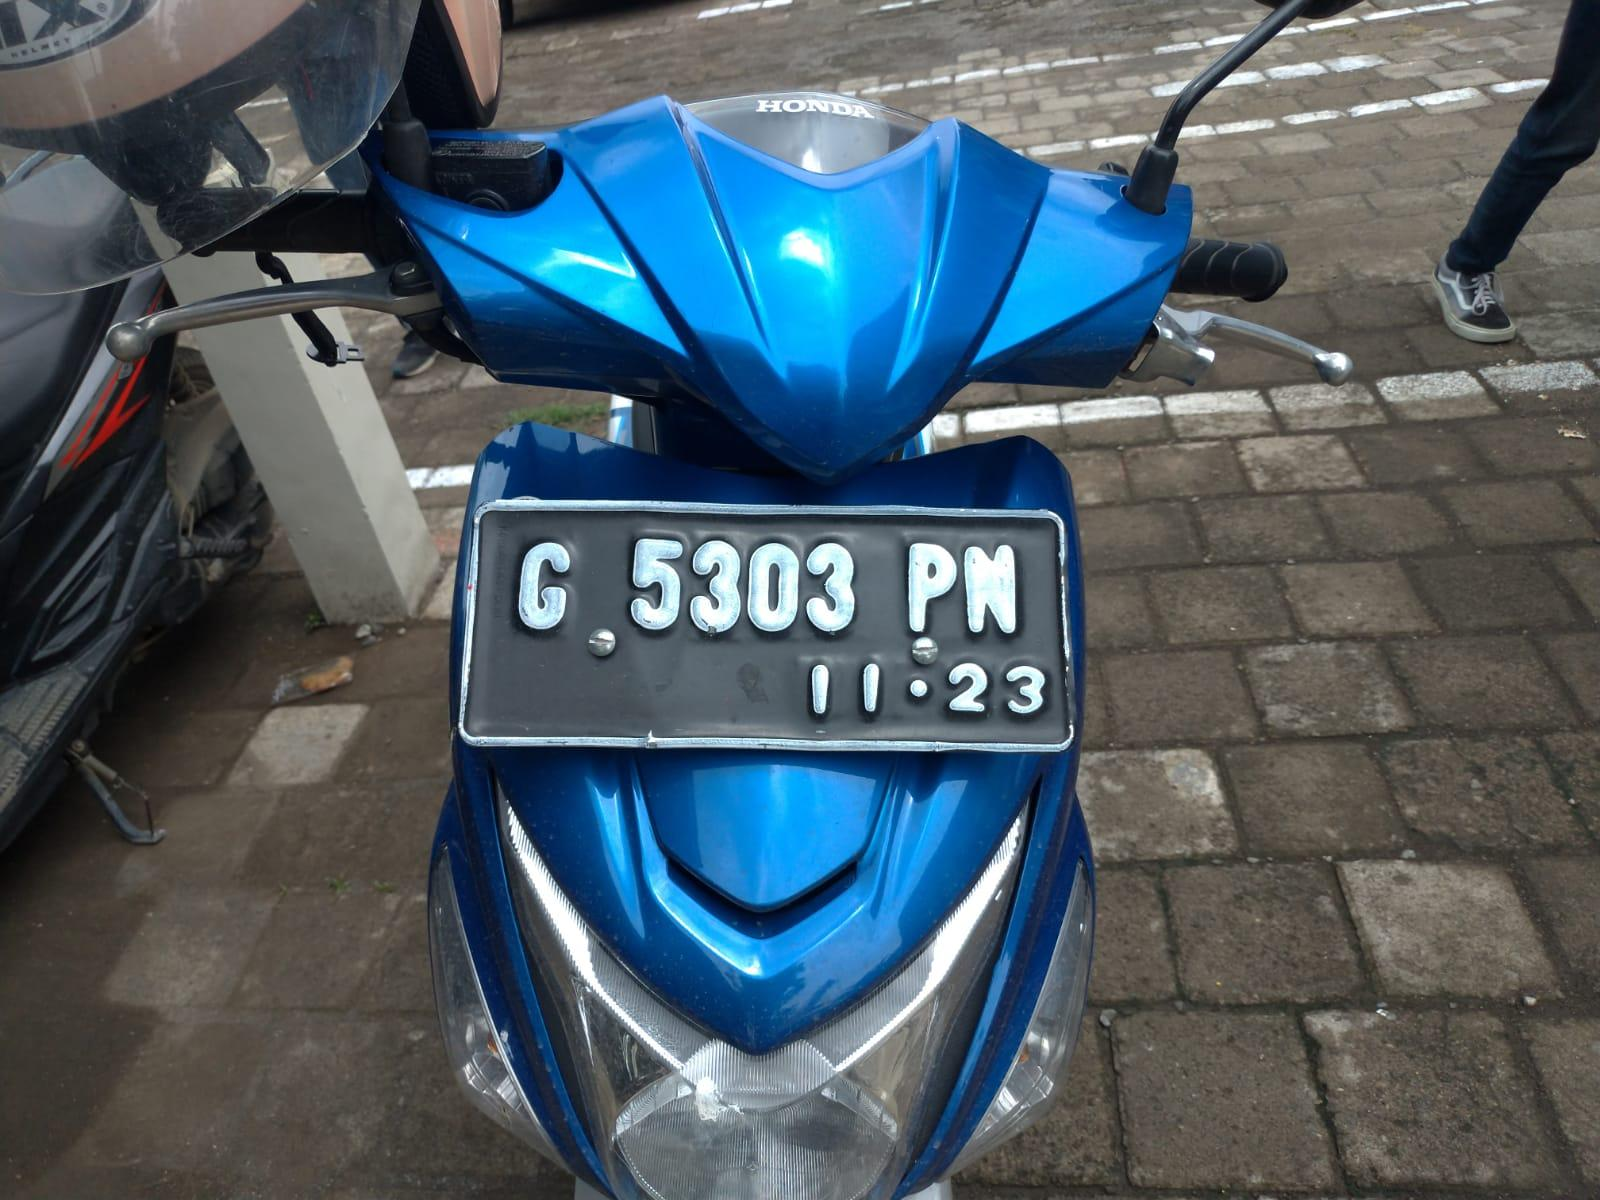plat: (462, 502, 1068, 744)
